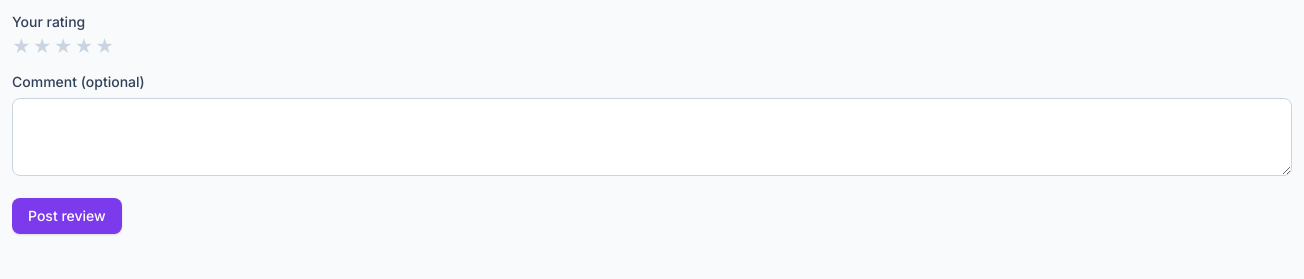
Test case: ReviewForm › shows a validation error and does not submit without a rating
Click the button "Post review": click(67, 216) [12, 198, 122, 234]
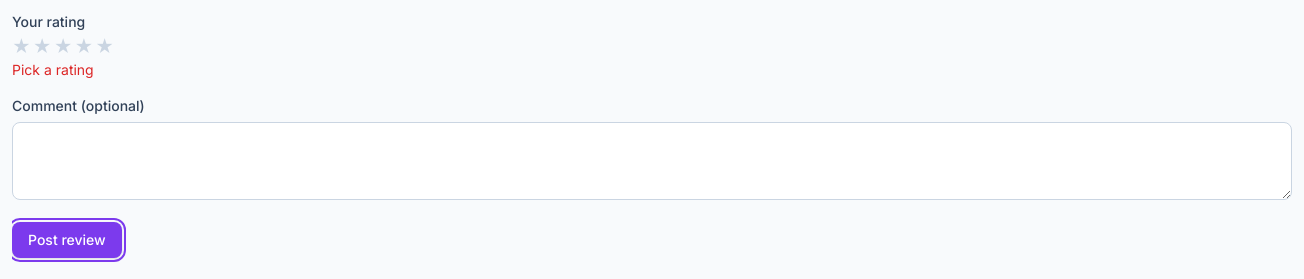
Result: the text "Pick a rating" is shown at [12, 61, 94, 78]
